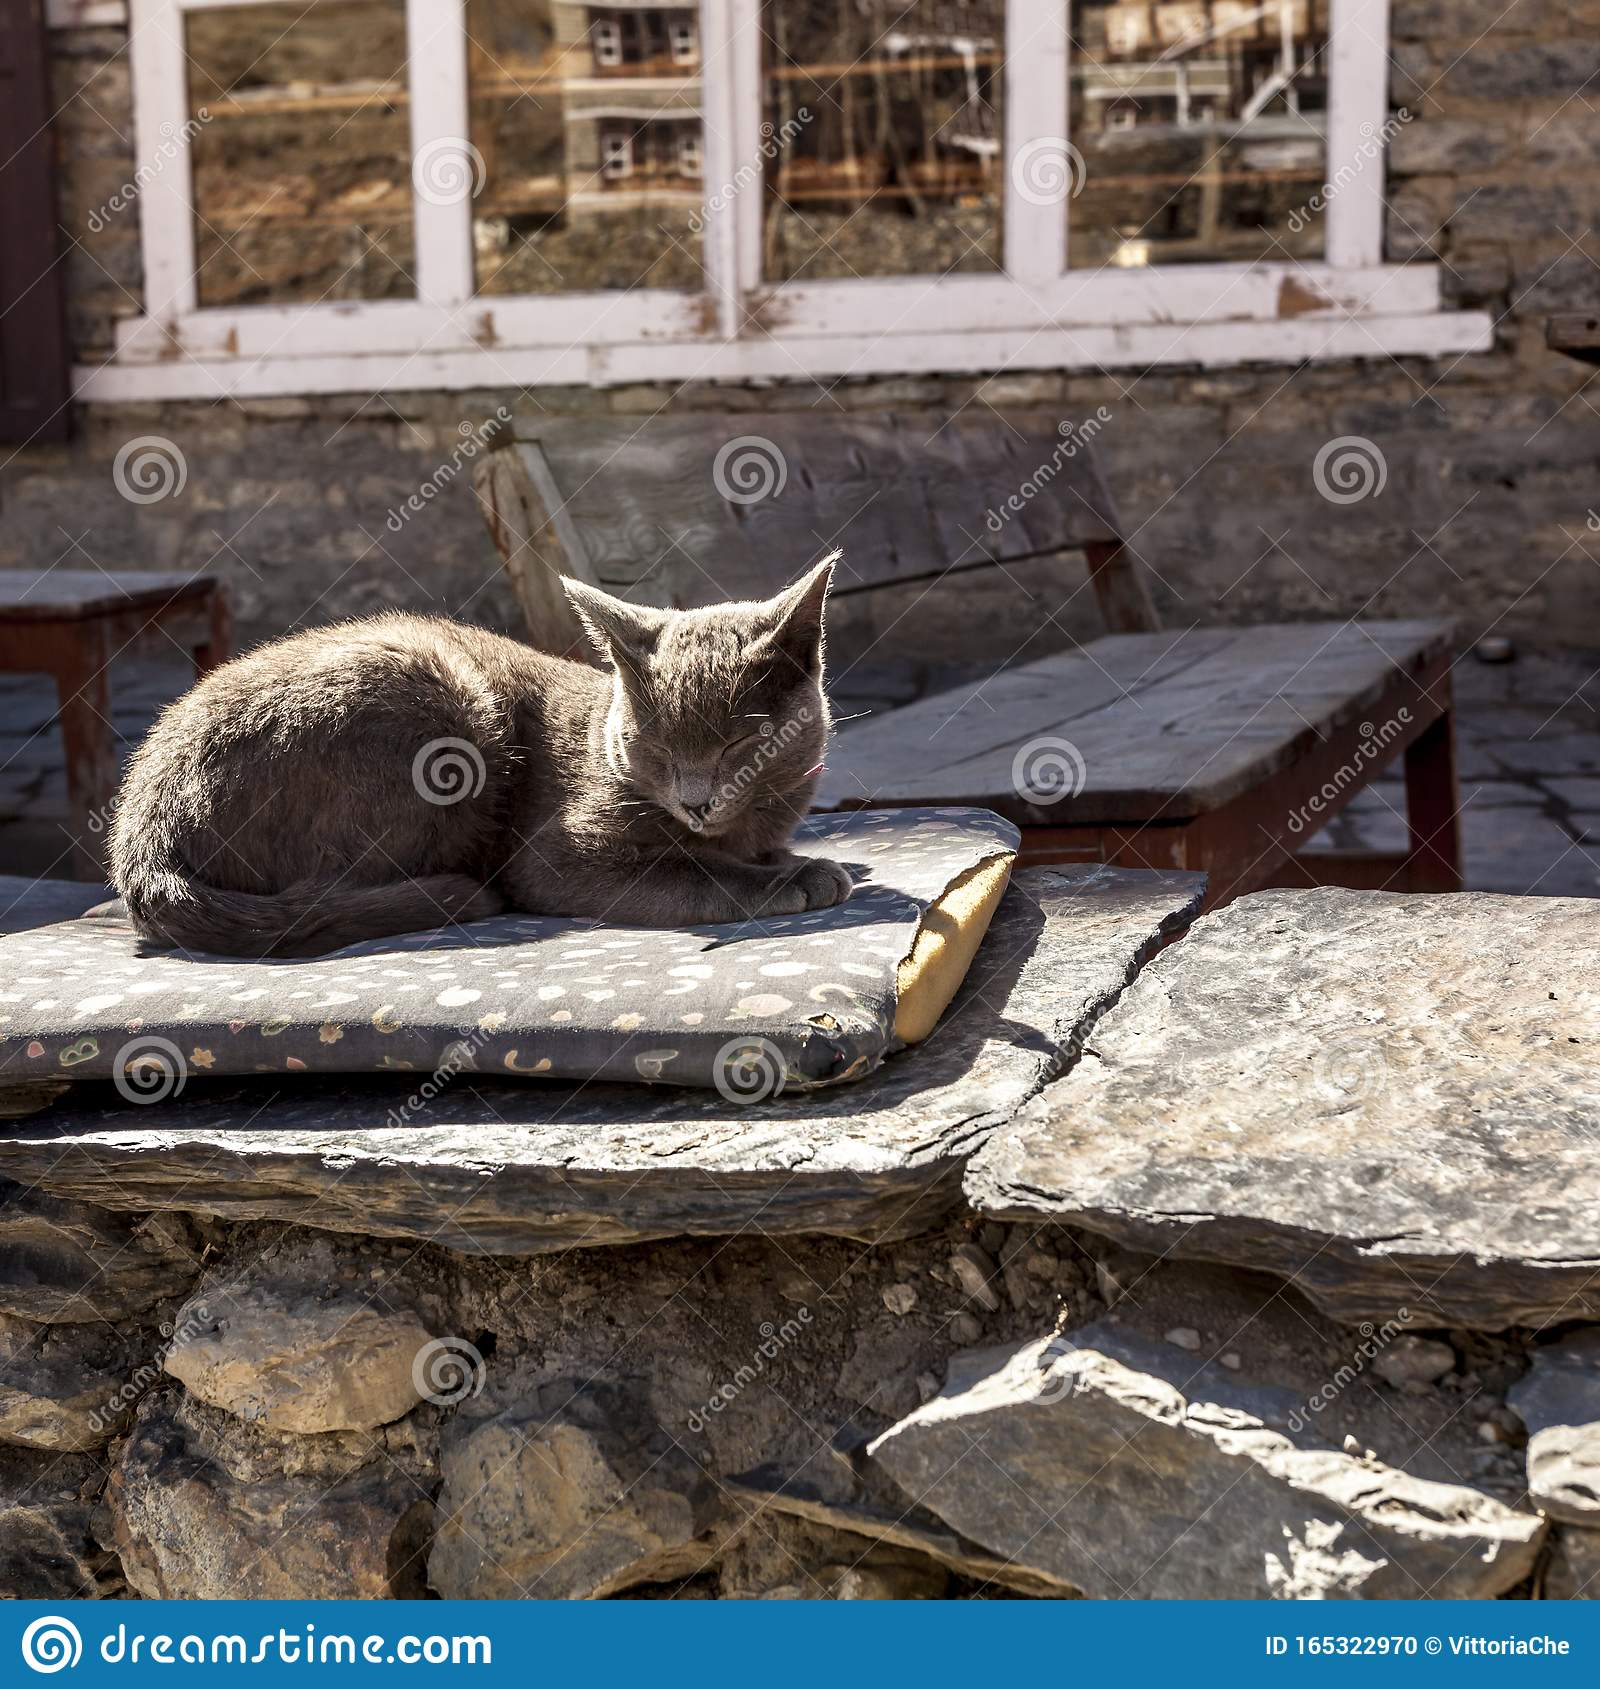cat: (86, 550, 896, 960)
